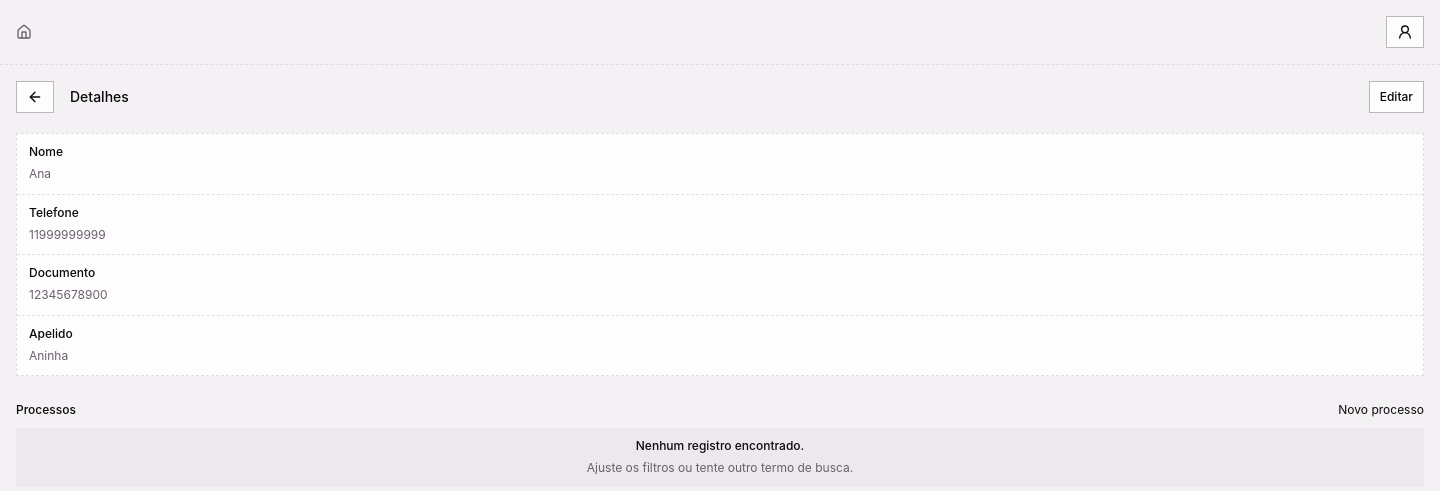
Test case: CustomerDetailsPage — edit mode (T24, WEB-06) › WEB-06 AC3: a 400 response keeps the form filled with the user’s edits, shows the message, and leaves the original record unchanged
Expected: the text "Ana" is shown, [29,166,51,181]
Click the button "Editar" at (1396, 97), box [1369,81,1424,113]
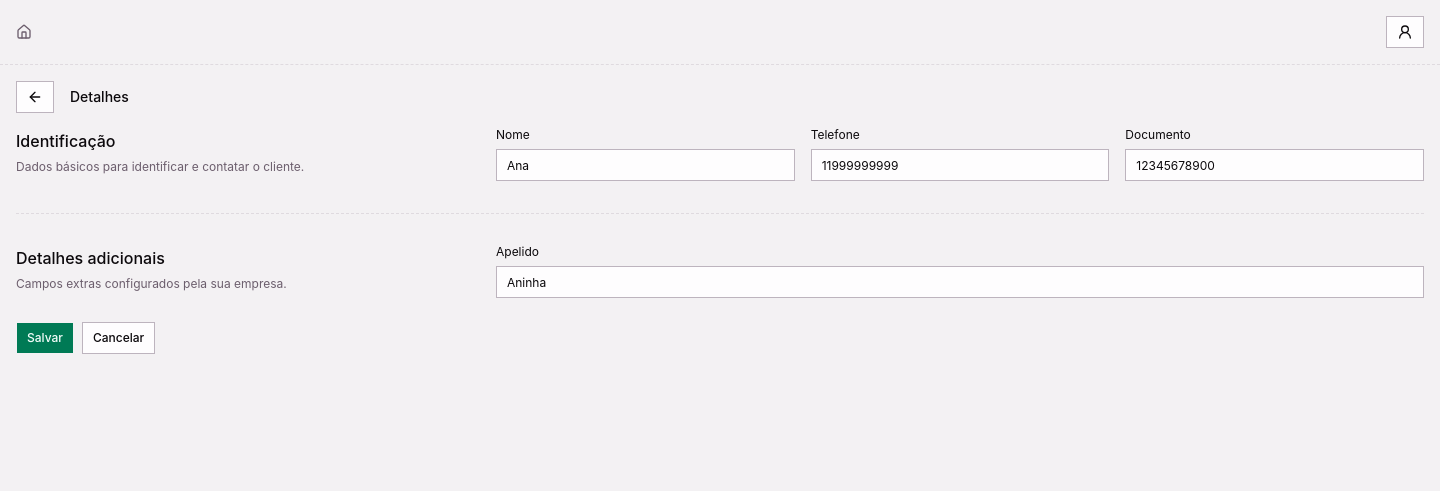
Replace the text in the field labelled "Nome" with "Ana Editada" at (645, 165), box [496,149,795,181]
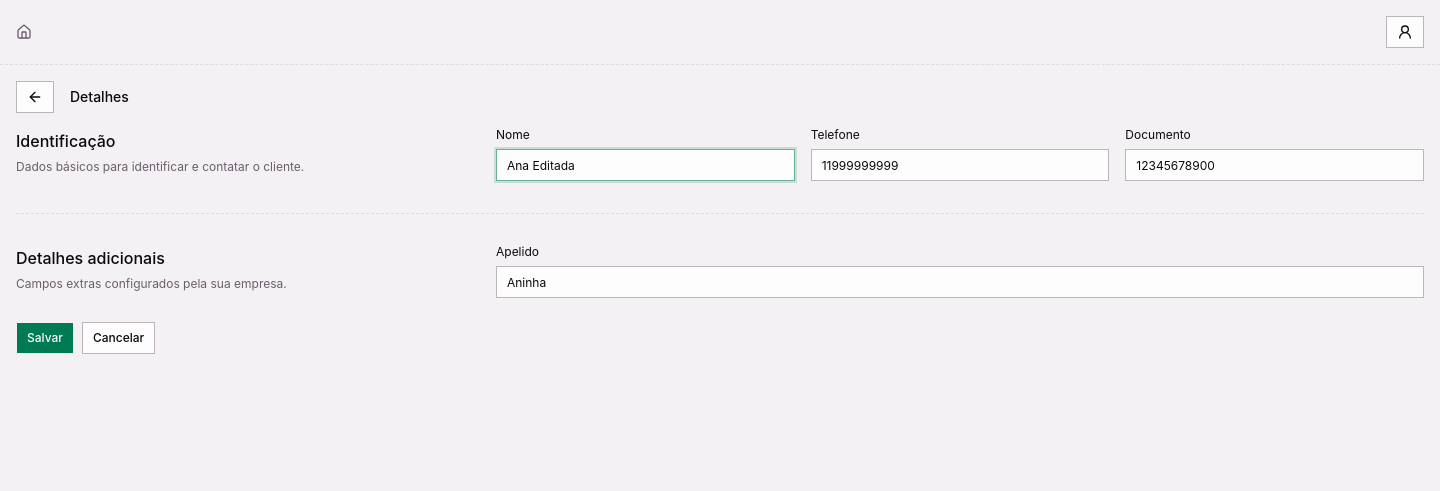
Click the button "Salvar" at (45, 338), box [16,322,74,354]
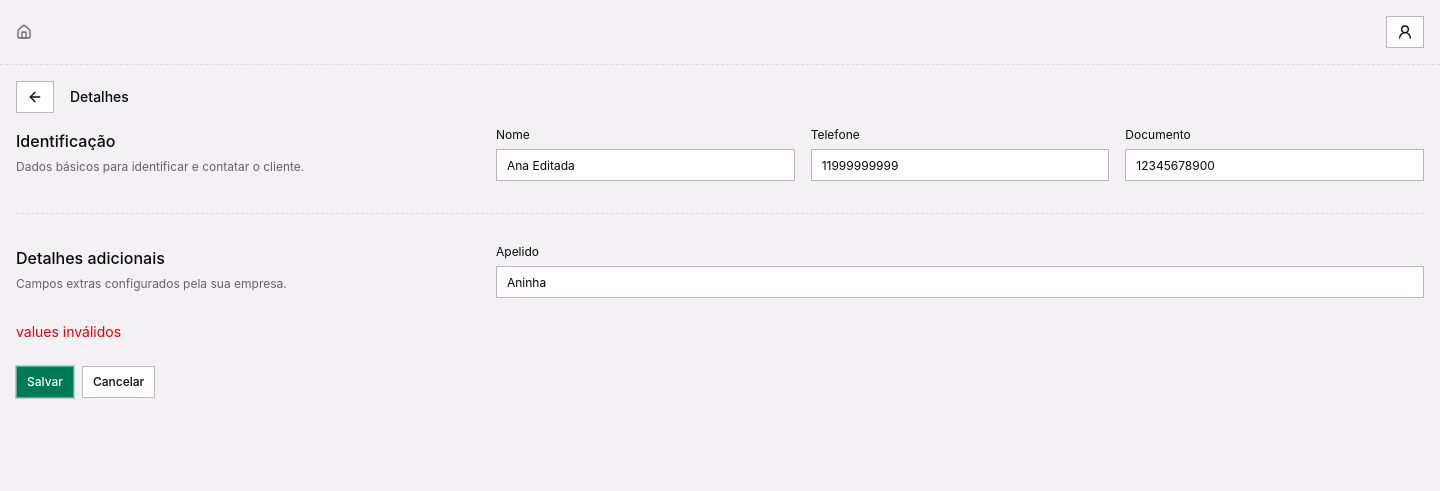
Result: the message reads "values inválidos" at [16,323,121,340]
Click the button "Cancelar" at (119, 382), box [82,366,155,398]
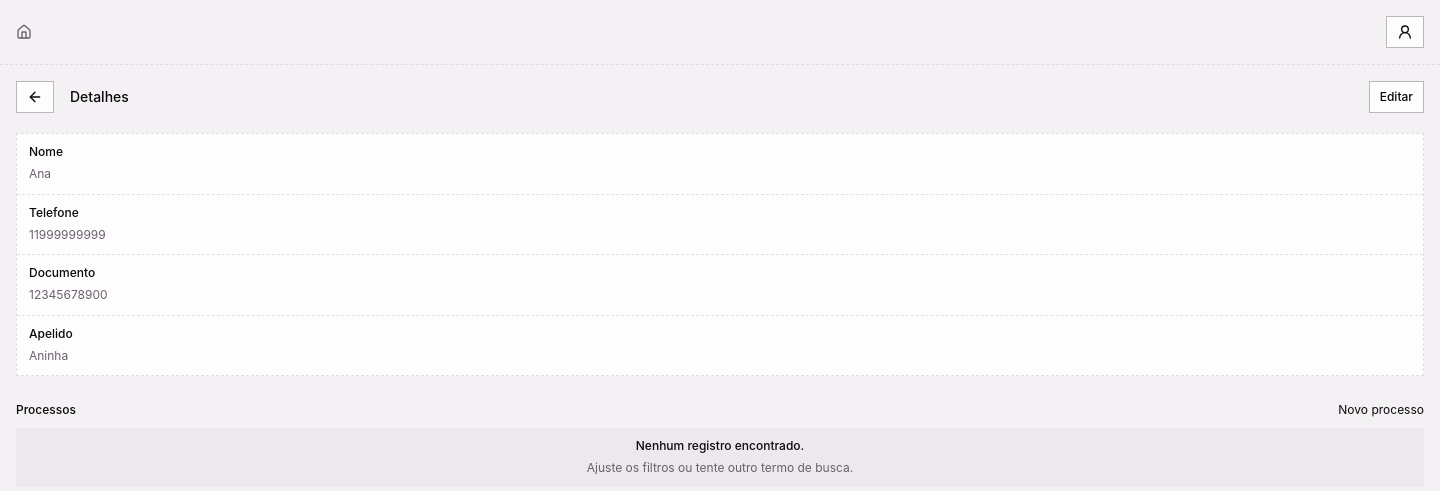
Expected: the text "Ana Editada" is not shown
Result: the text "Ana" is shown at [29,166,51,181]
